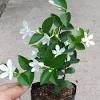jasmine: (16, 17, 41, 37), (0, 54, 14, 83), (76, 28, 96, 48), (18, 56, 47, 69), (34, 24, 51, 44), (53, 41, 63, 59)
